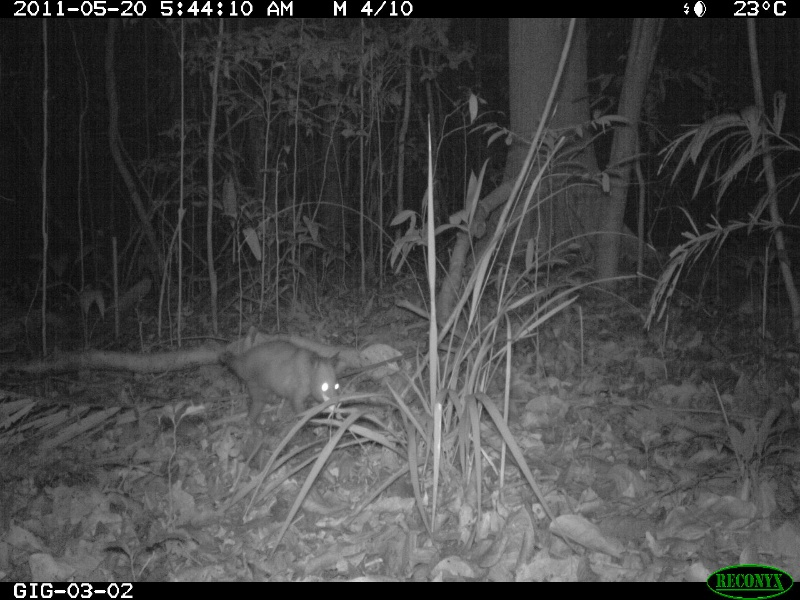opossum: (196, 341, 347, 423)
